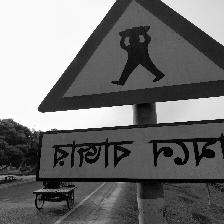Market-in-front: (35, 0, 224, 170)
